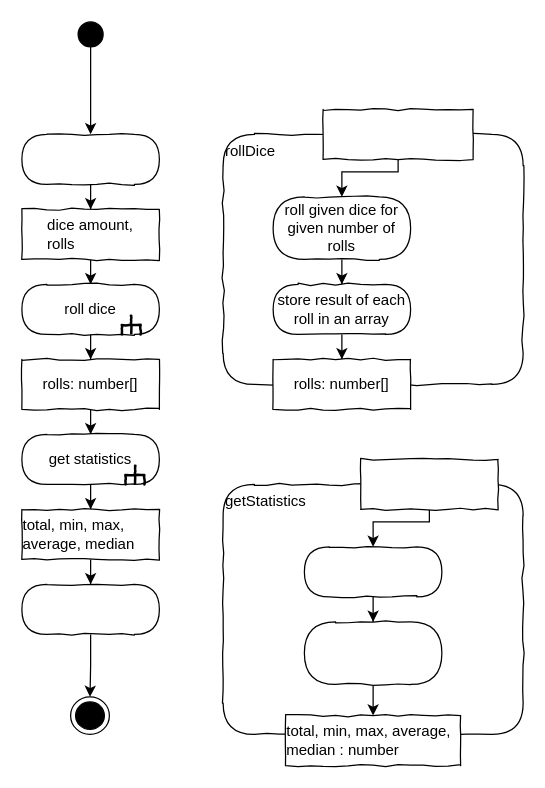
Image size: 545x788. Some labels were removed from this diagram. The shapes that lost their labels are listed below. From the top down, each one's centre as x and y in pixels, then its label:
At point 397,133: "_dice[]: number _nRolls: number".
At point 90,158: "get input".
At point 428,483: "_rolls: number[]".
At point 372,571: "sort array".
At point 90,608: "print statistics".
At point 372,652: "calculate total, average, median get min, max".
